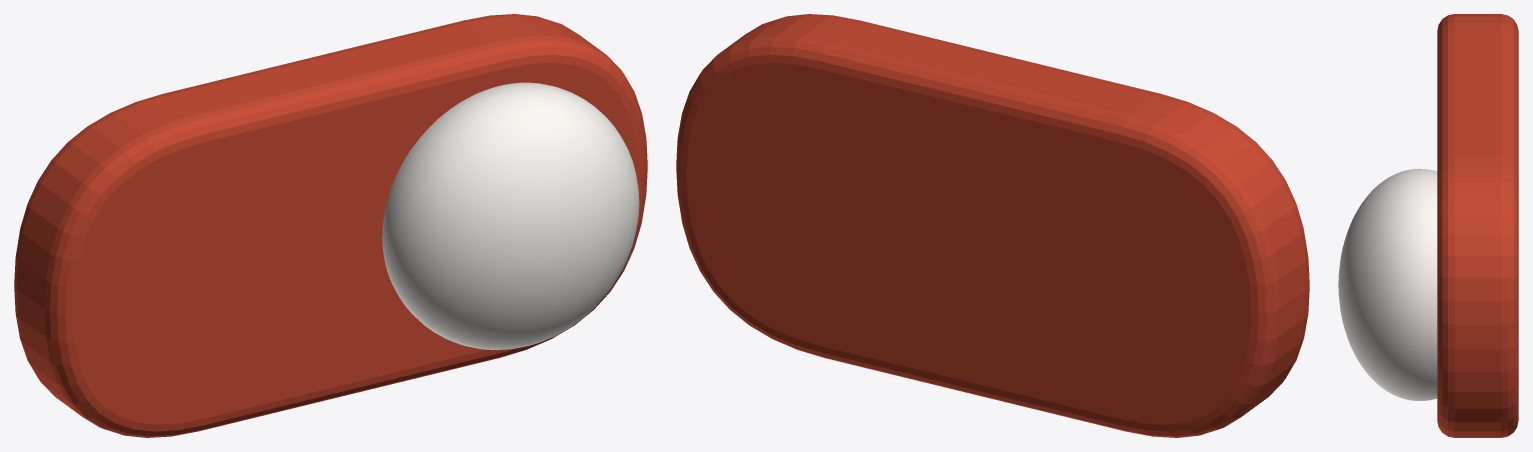
Rendered from toggle.glb.
3 views of the same model, side by side, from view 1: azimuth 30°, elevation 25°; view 2: azimuth 150°, elevation 25°; view 3: azimuth 270°, elevation 25° (orthographic). The views are drawn at different scales.
Parts seen in each view (by area): view 1: track, knob; view 2: track; view 3: track, knob.
Boxes of the visible parts, x1=… form: track: x1=14, y1=14, x2=647, y2=437; knob: x1=382, y1=82, x2=639, y2=349; track: x1=676, y1=14, x2=1309, y2=437; track: x1=1437, y1=14, x2=1518, y2=437; knob: x1=1338, y1=168, x2=1437, y2=400.
Size of the model in its own units: 1 by 0.5 by 0.31.
